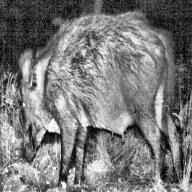boar: (19, 16, 180, 187)
